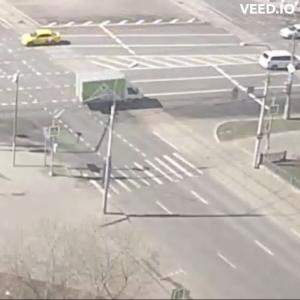car: (68, 70, 147, 107), (261, 51, 300, 73), (19, 30, 62, 48), (281, 26, 300, 42)
